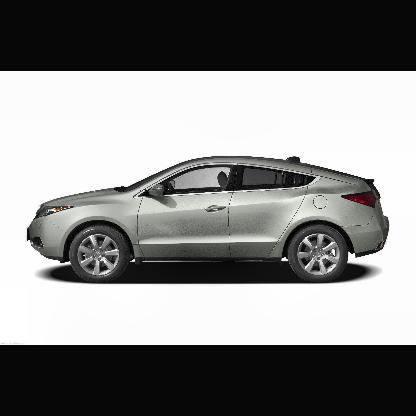Acura ZDX Hatchback 2012: (27, 156, 389, 282)
